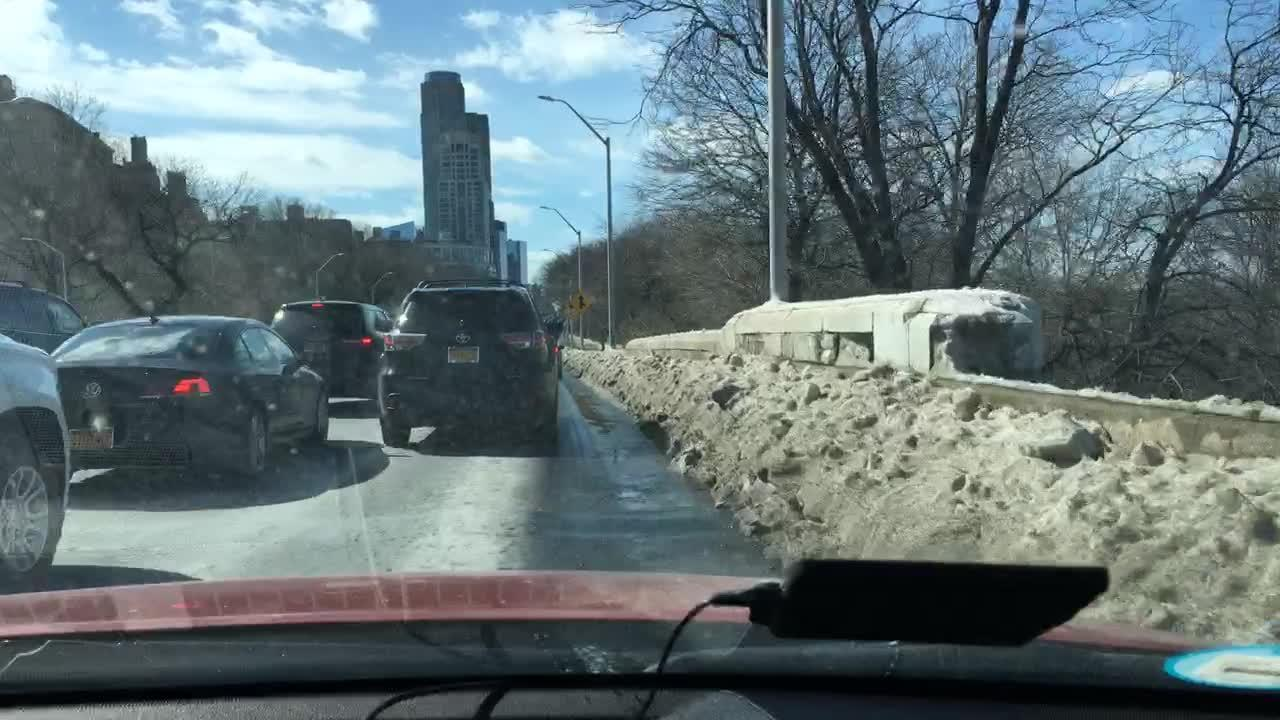Toyota: (454, 332, 473, 346)
Volkswagen: (76, 375, 109, 405)
